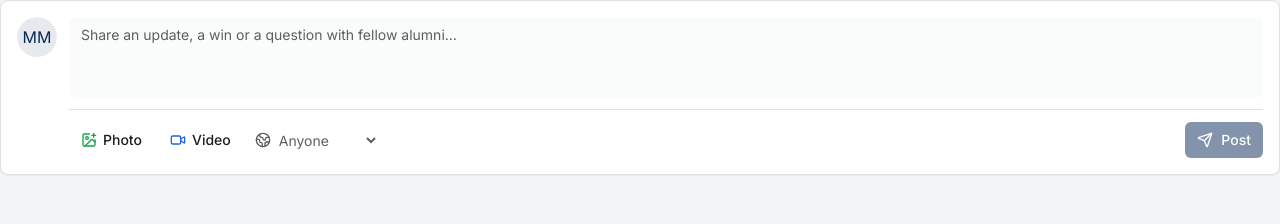
Test: PostComposer › shows the server error and keeps the draft
Type "Draft text" into the dropdown named "Write a post" at {"x": 666, "y": 57}, box [69,17,1263,97]
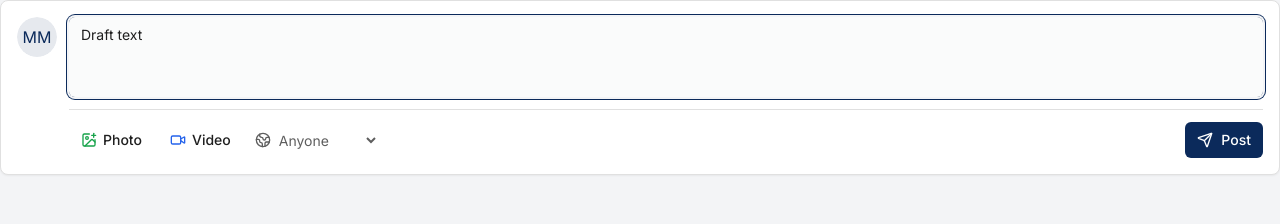
Click the button "Post" at {"x": 1224, "y": 140}, box [1185,122,1263,158]
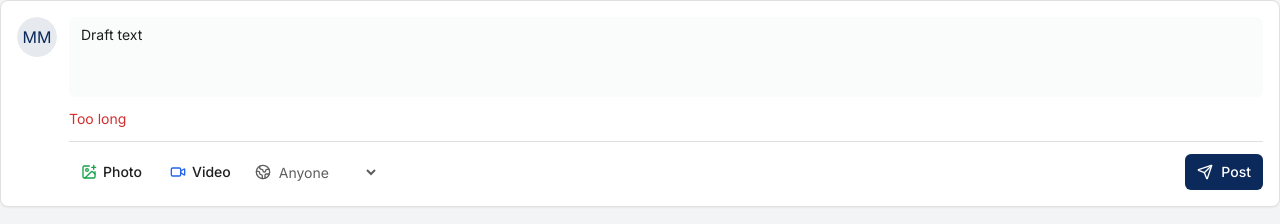
Expected: the message reads "Too long", [69,110,126,127]
